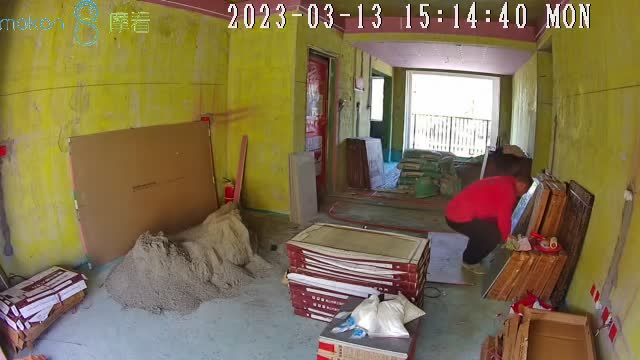people: (445, 171, 531, 274)
window: (410, 72, 496, 157)
